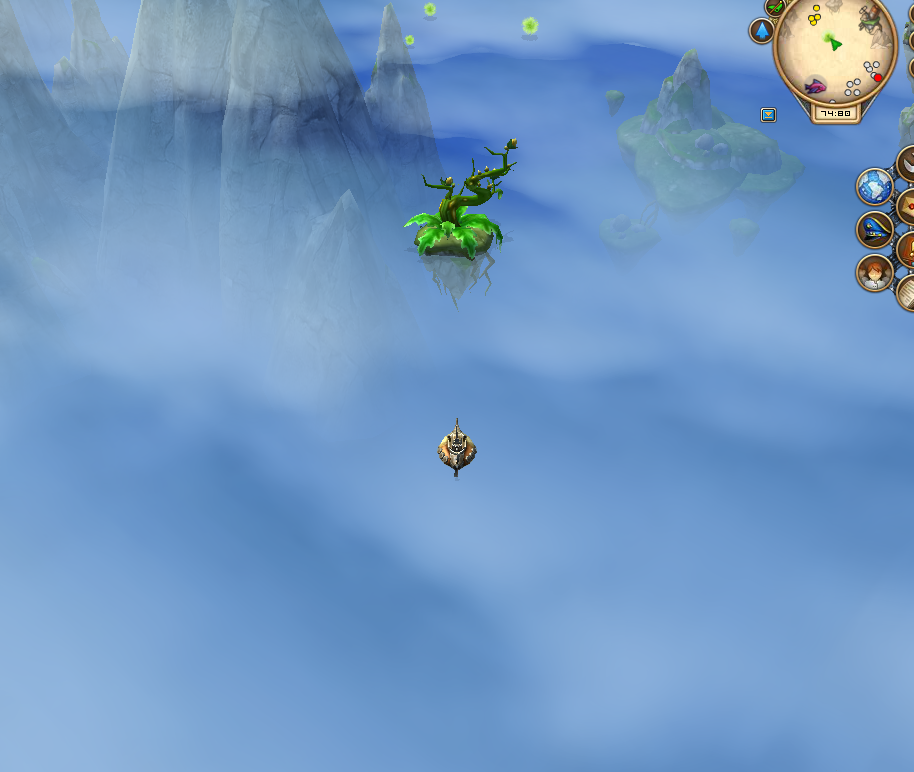dandelion-empty: (396, 132, 531, 290)
fluff: (518, 14, 542, 38), (401, 30, 417, 49), (423, 0, 437, 17)
